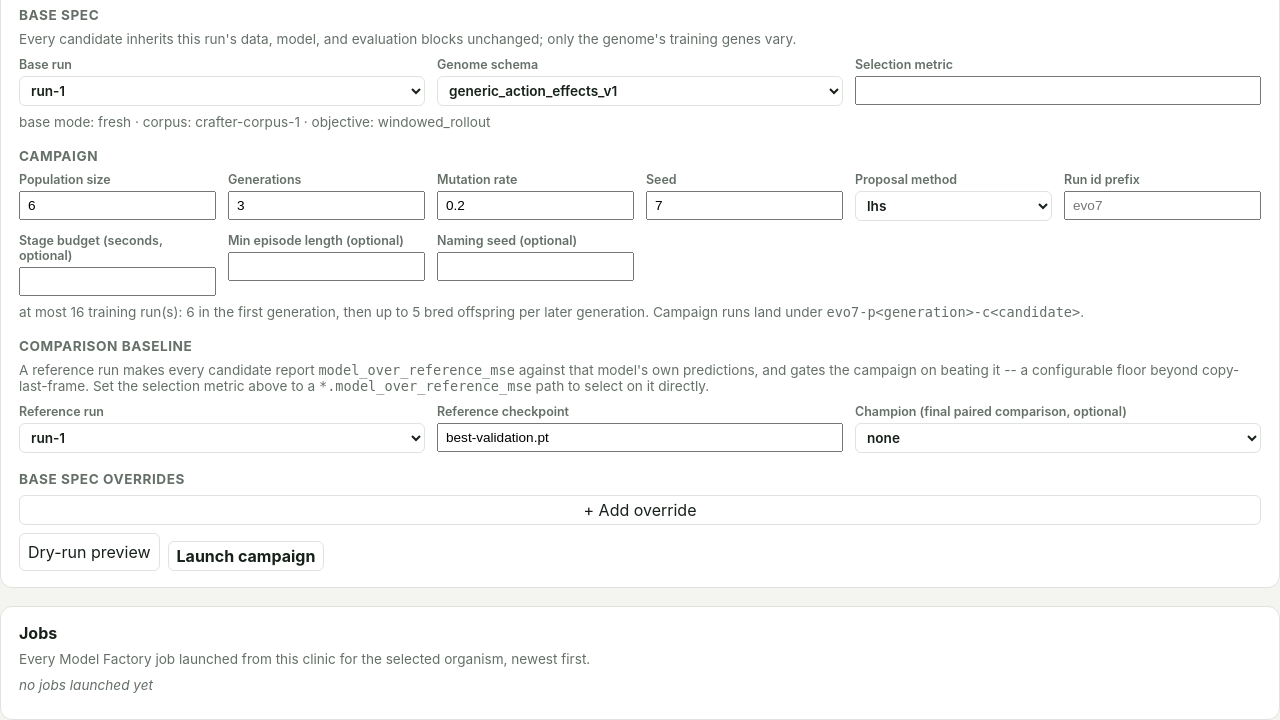
Test: EvolvePanel › surfaces a rejected preview instead of a stale candidate table
(page scrolled)
Expected: the dropdown labelled "Base run" shows "run-1", top-left (19, 76), bottom-right (425, 106)
Step 1. Click the button "Dry-run preview" → (89, 552), box top-left (19, 533), bottom-right (160, 571)
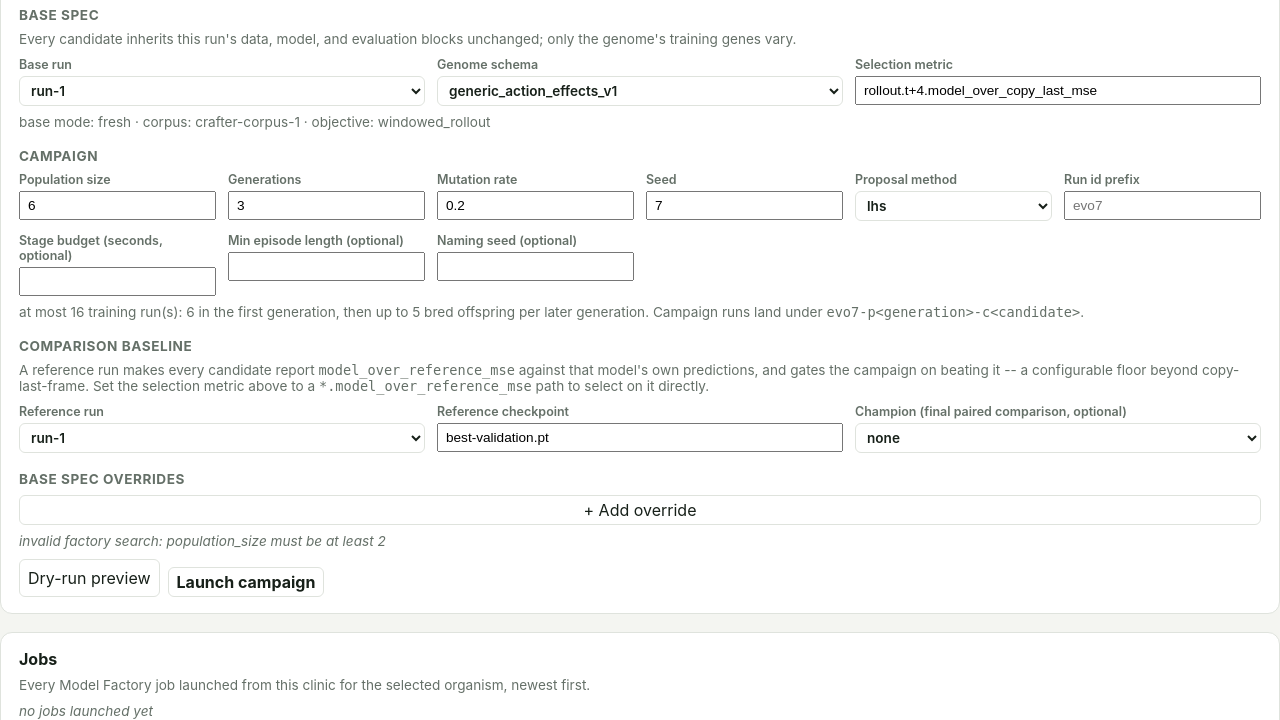
Now the text "invalid factory search: population_size must be at least 2" is shown, box top-left (19, 533), bottom-right (386, 549)
